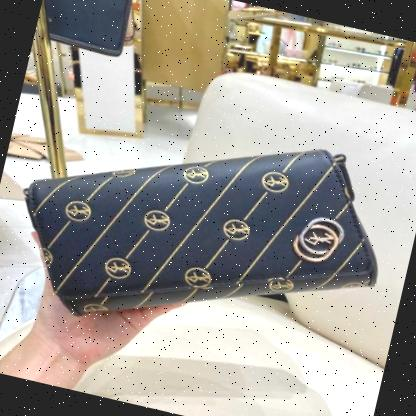bag: (0, 77, 409, 386)
